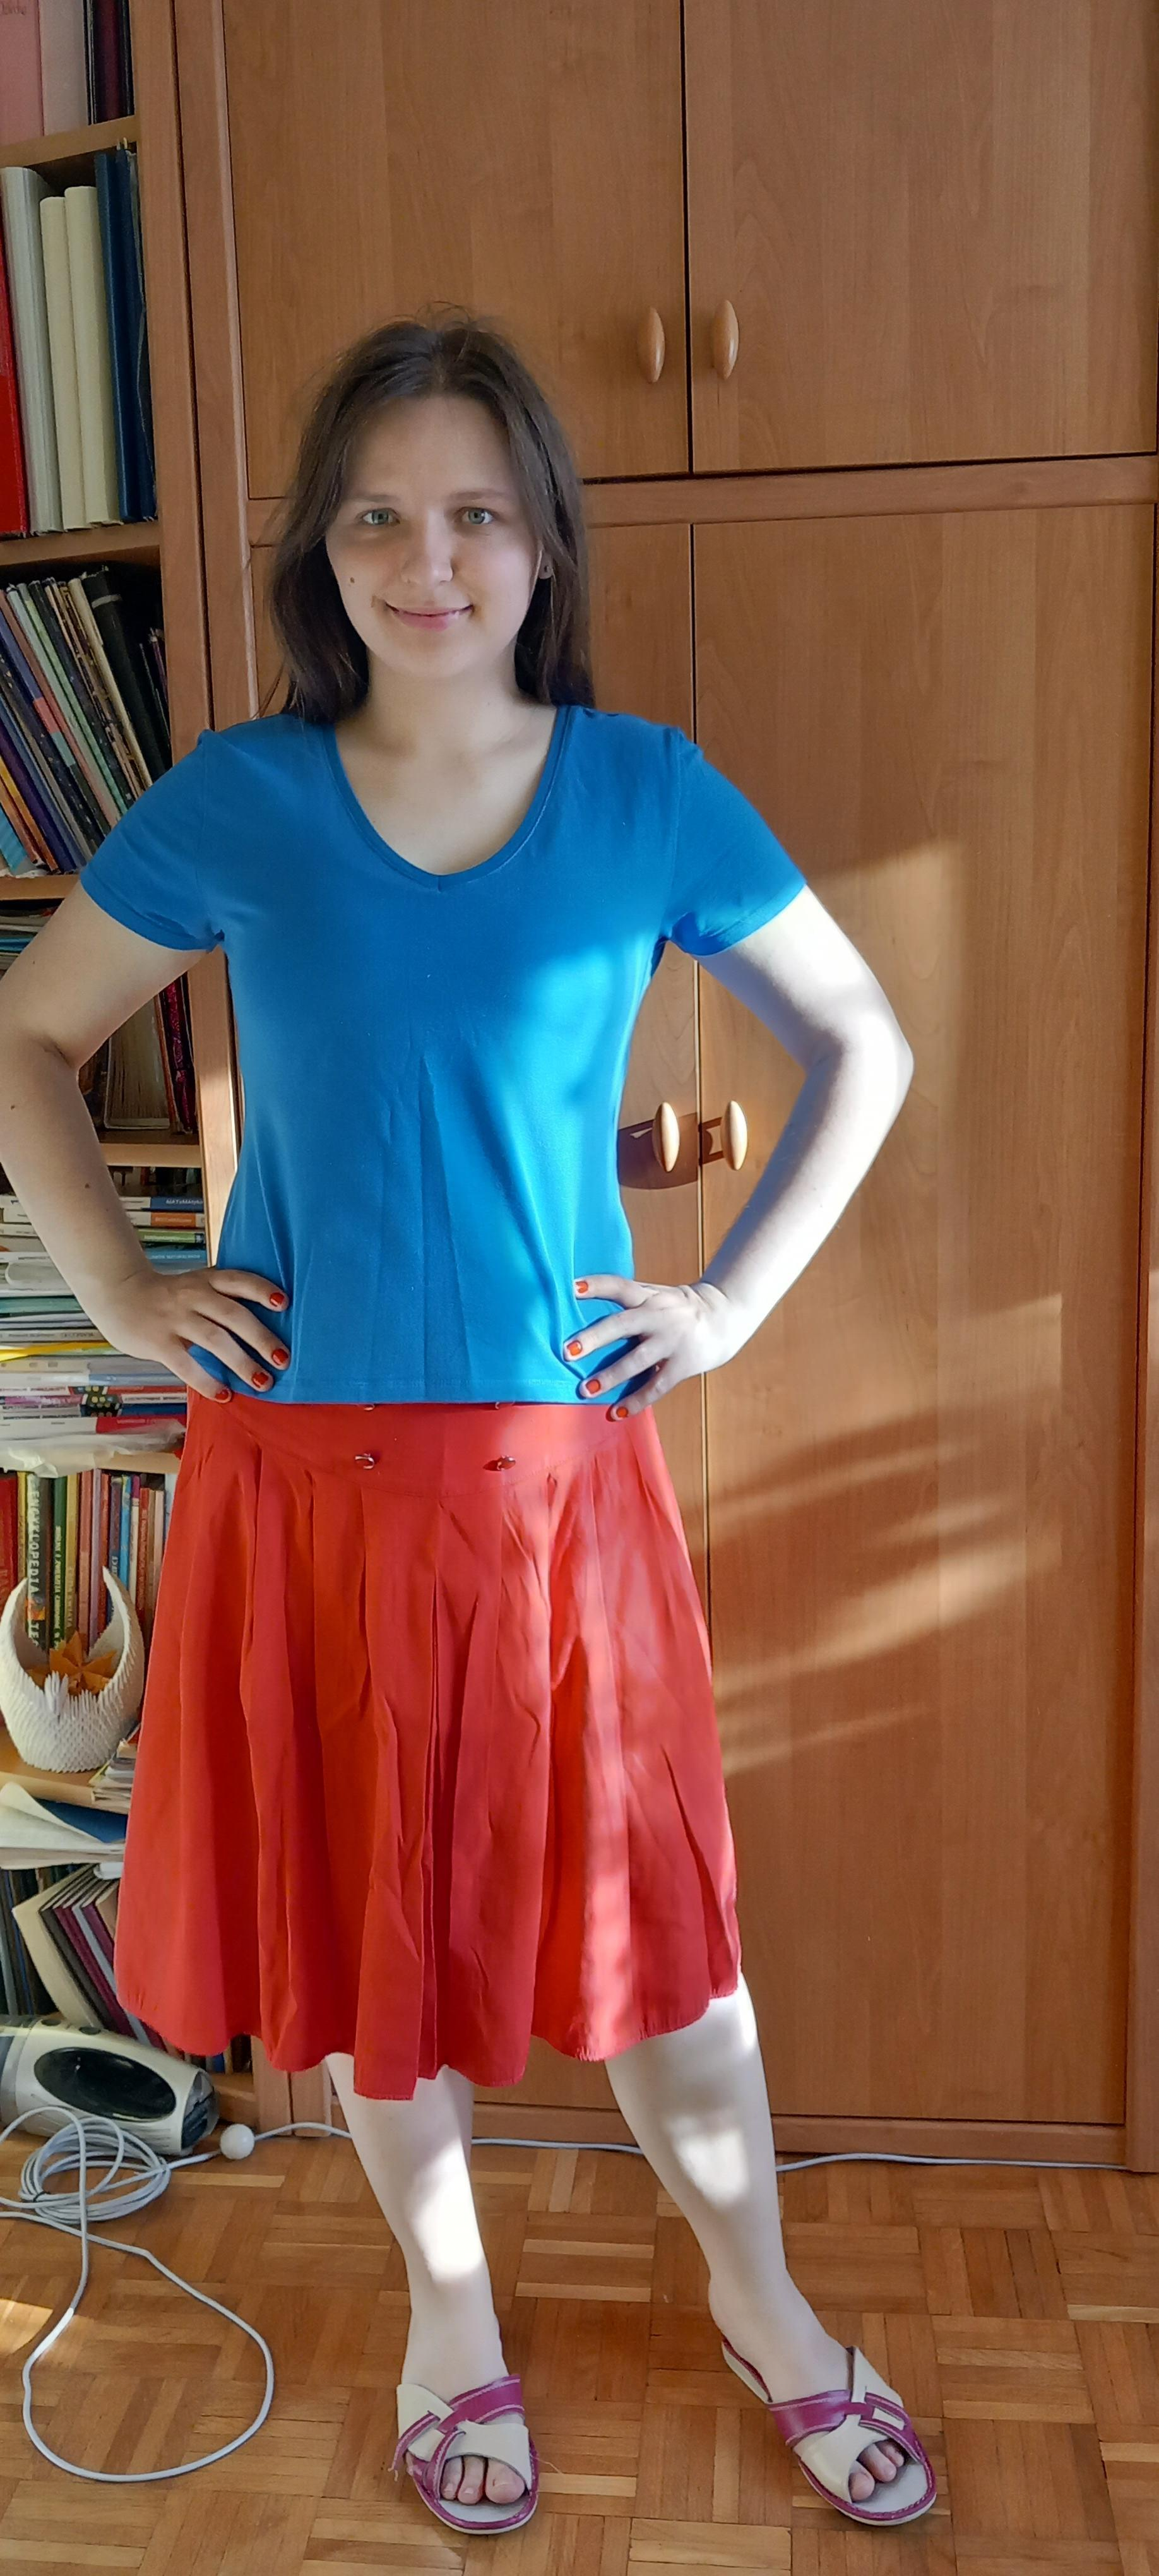Tshirt: (76, 708, 813, 1406)
skirt: (113, 1383, 742, 2100)
